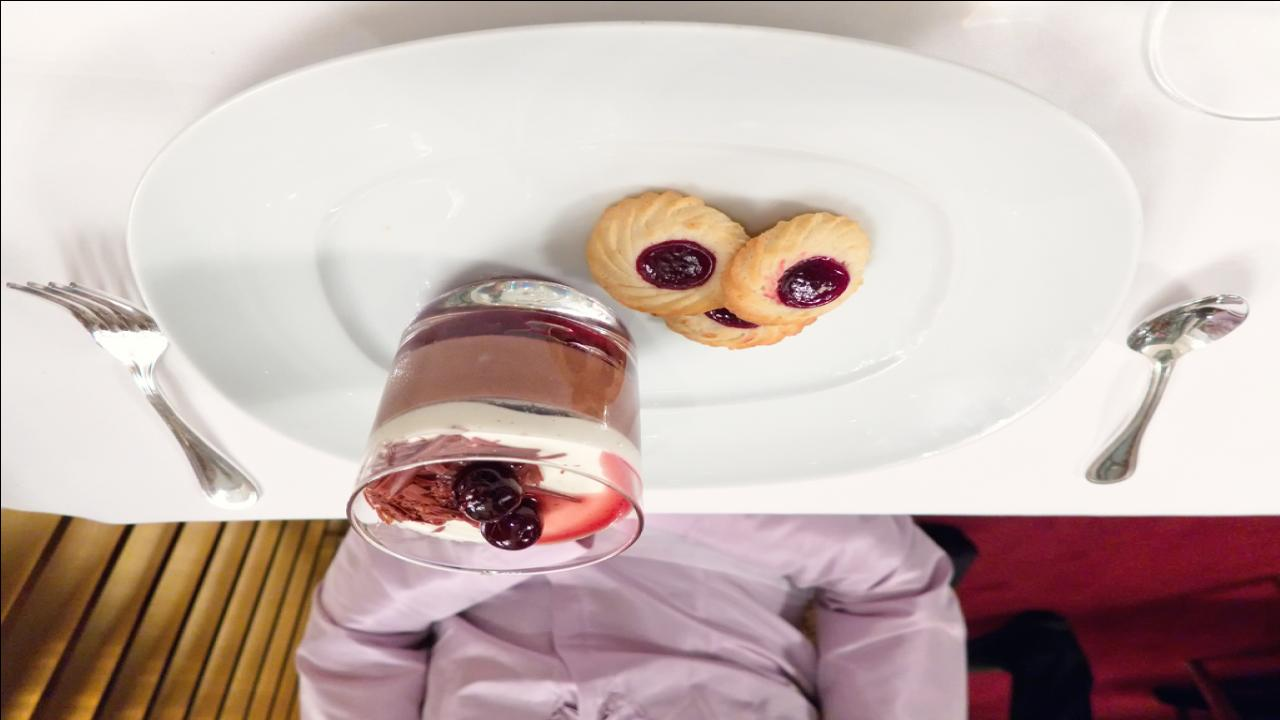fork: (3, 274, 264, 512)
